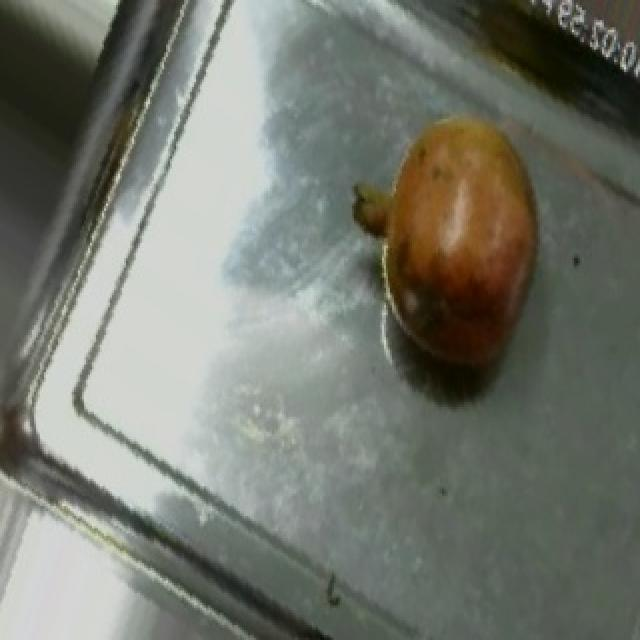fruit: (328, 82, 566, 377)
